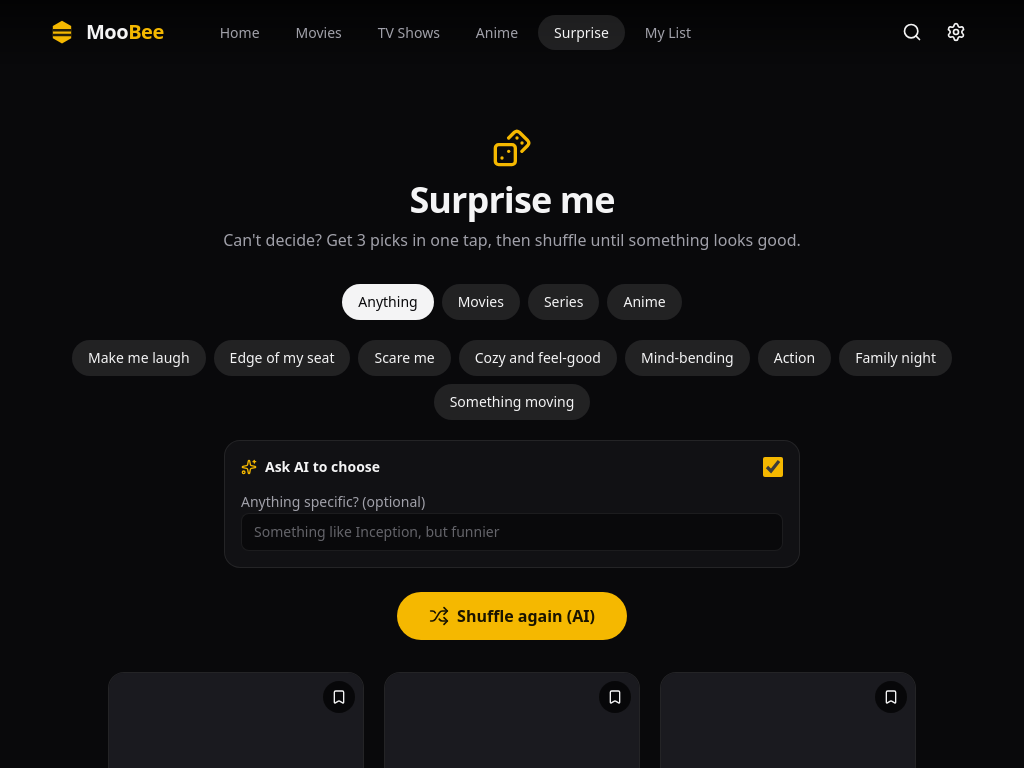
it: Surprise page › with an AI key › falls back to random picks, and says so, when the AI fails
Step 1. Click the button "Shuffle again (AI)" → [512, 616], box x1=397 y1=592 x2=627 y2=640
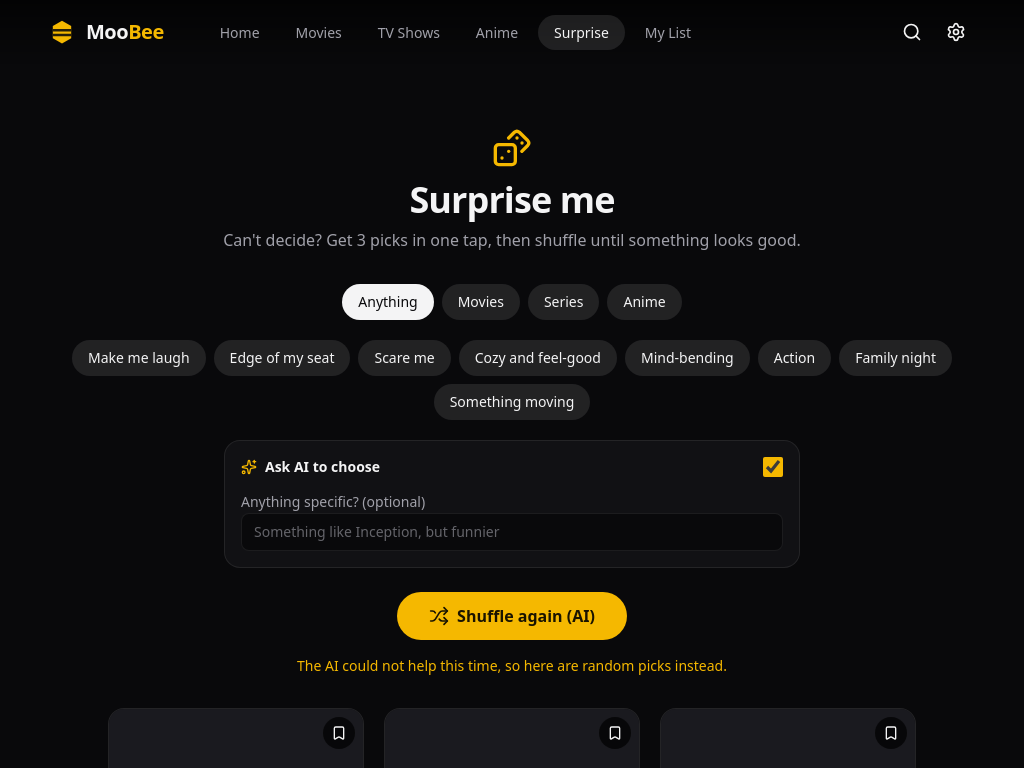
Check: the text "The AI could not help this time, so here are random picks instead." is shown, box x1=297 y1=656 x2=727 y2=675
